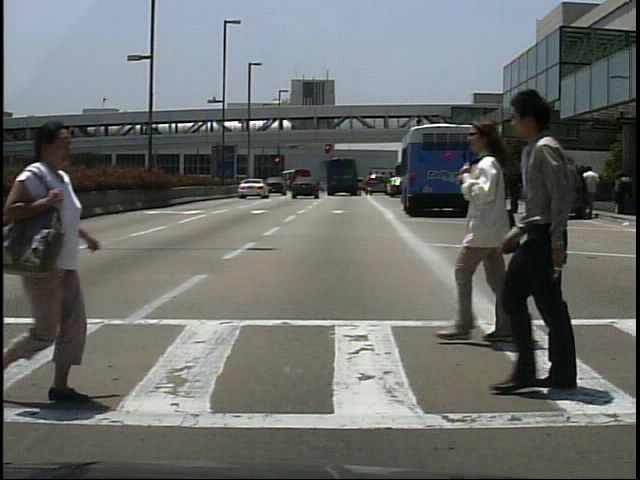person: (493, 78, 620, 396), (15, 119, 119, 409), (431, 117, 528, 362), (485, 162, 503, 215), (507, 166, 524, 216), (587, 166, 600, 218)
